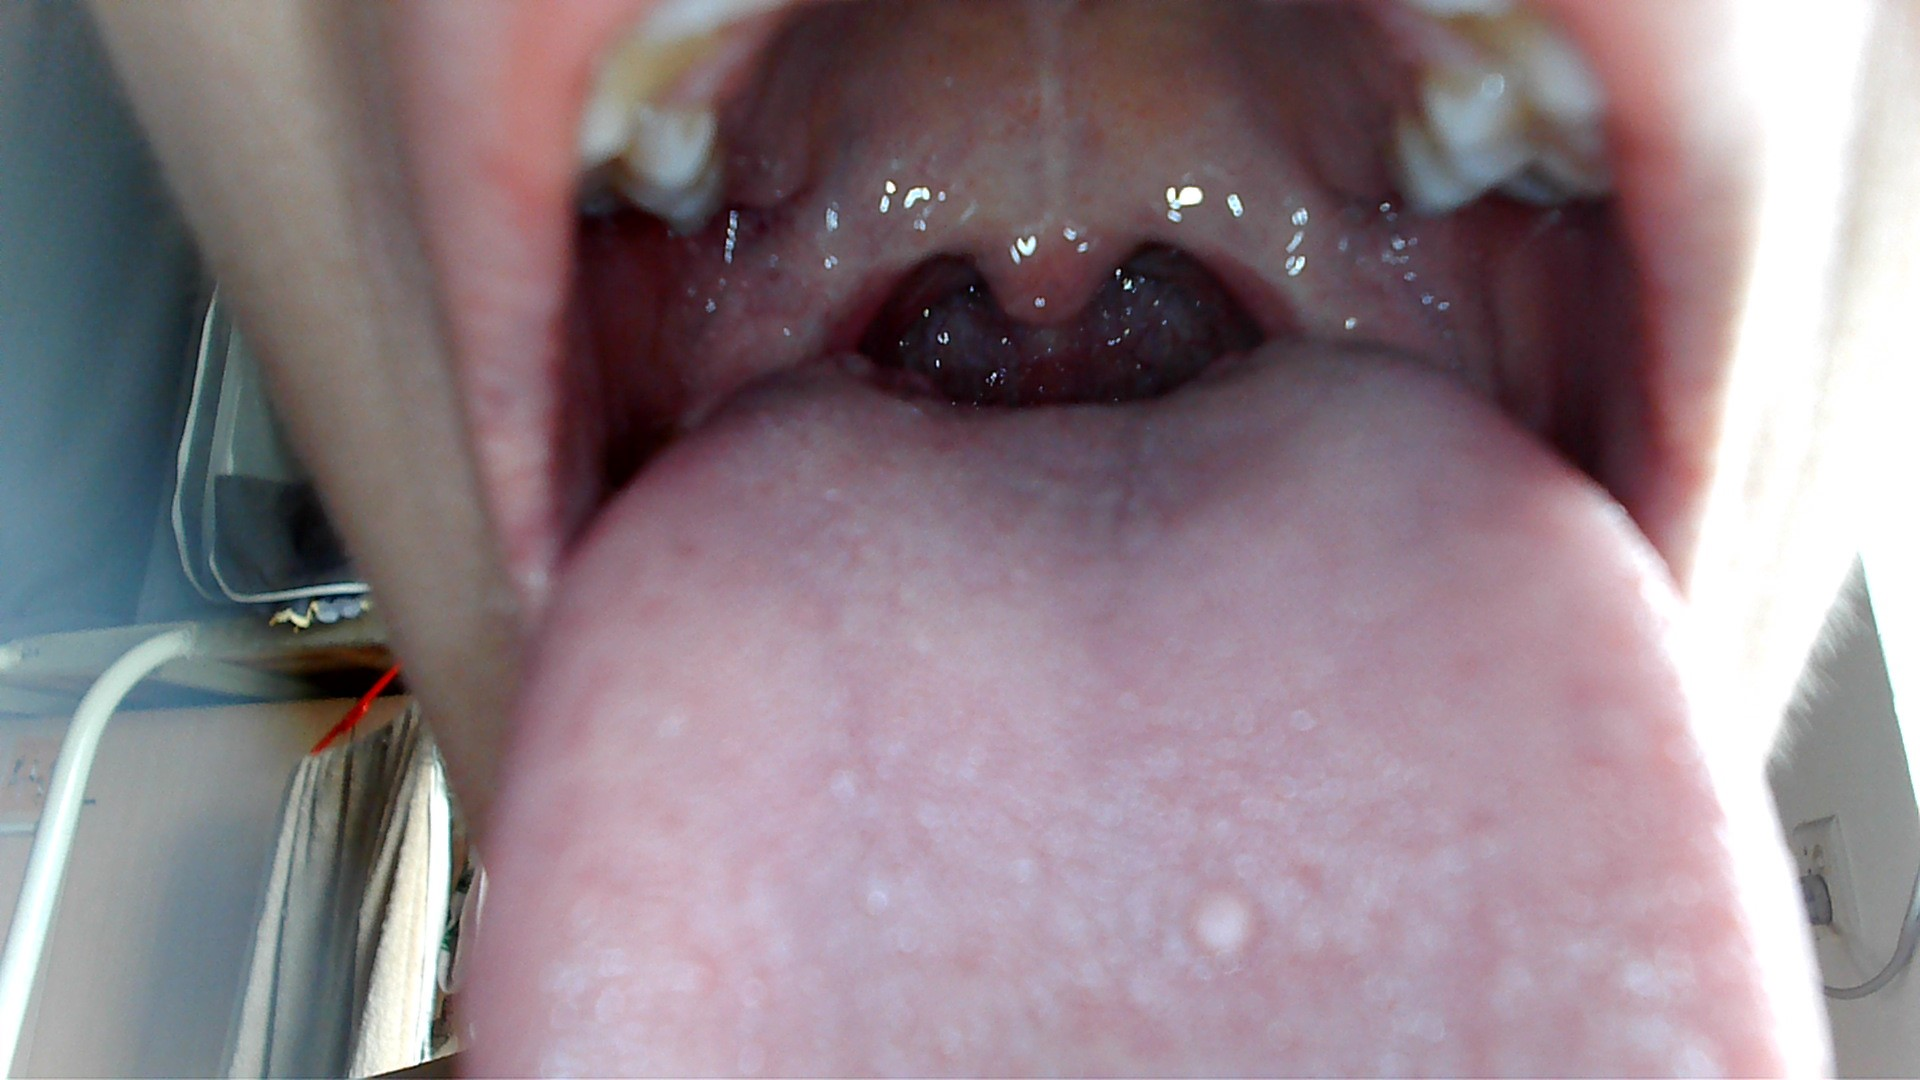throat: (731, 224, 922, 348), (1193, 228, 1406, 336)
